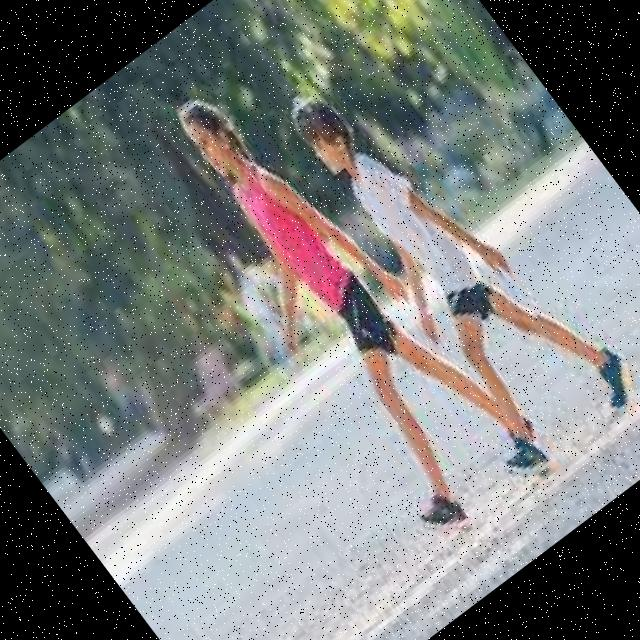Person: (132, 51, 559, 550), (252, 34, 640, 489)
